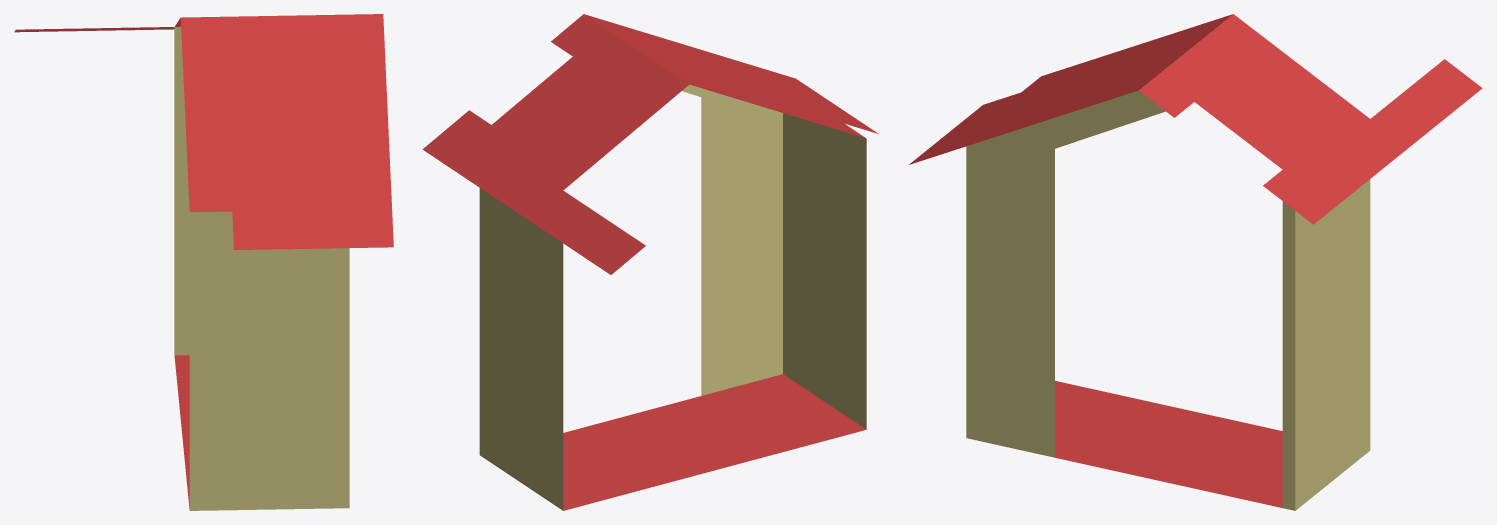
3 renders of one model, left to right at view 1: azimuth 30°, elevation 25°; view 2: azimuth 150°, elevation 25°; view 3: azimuth 270°, elevation 25°, orthographic. The views are drawn at different scales.
Bounding box in the file's own units: 13.03 × 20.04 × 15.64.
